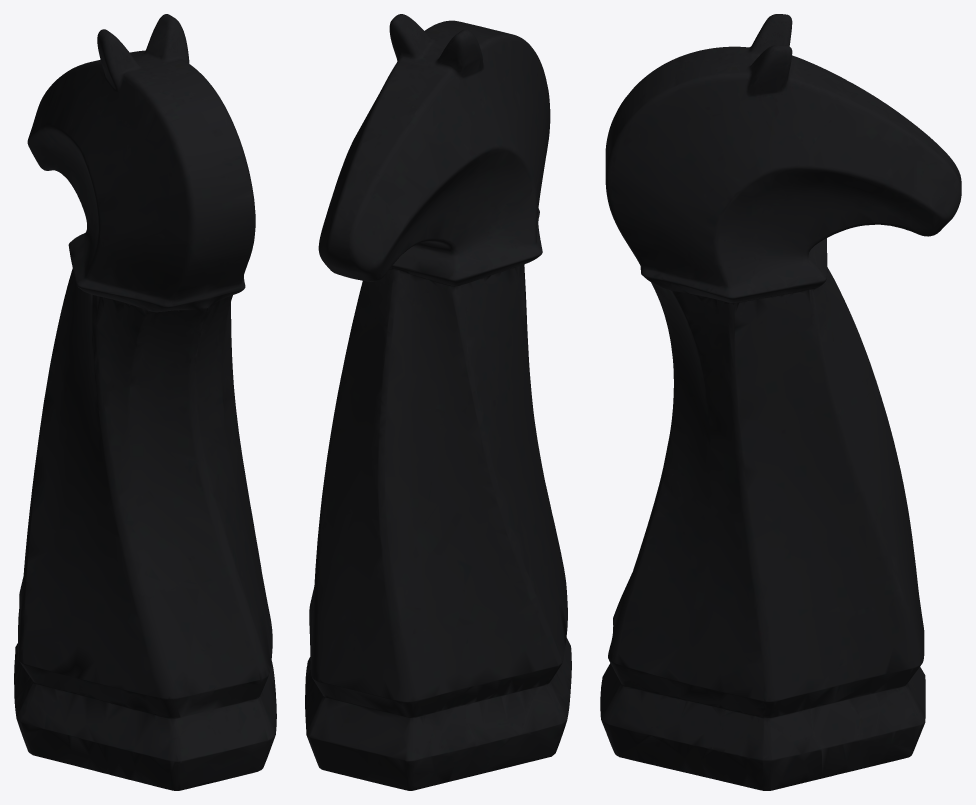
File: knight-black-hd.glb
The picture shows the model from 3 angles, left to right: view 1: azimuth 30°, elevation 25°; view 2: azimuth 150°, elevation 25°; view 3: azimuth 270°, elevation 25°; orthographic projection.
Bounding box in the file's own units: 0.4702 × 1.25 × 0.5802.
Materials: 1 (1 with a texture image).
